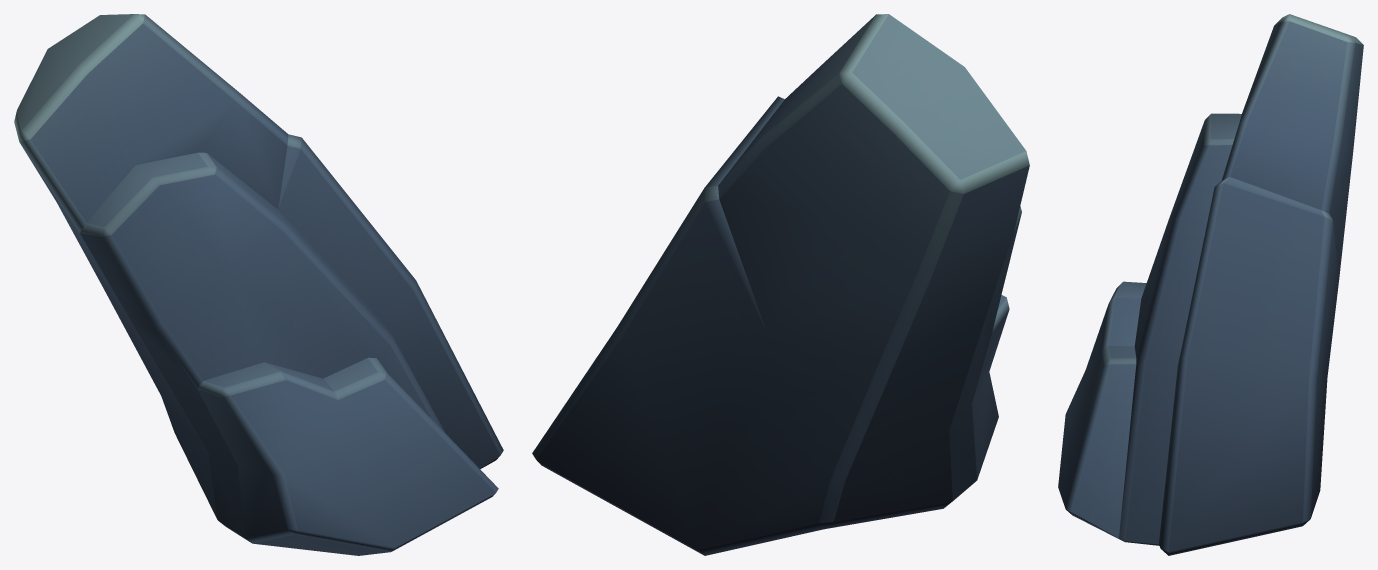
File: rock_021.fbx
3 views of the same model, side by side, from view 1: azimuth 30°, elevation 25°; view 2: azimuth 150°, elevation 25°; view 3: azimuth 270°, elevation 25° (orthographic). The views are drawn at different scales.
Parts seen in each view (by area): view 1: rock_021; view 2: rock_021; view 3: rock_021.
Part boxes in pixels (bbox=[...]): rock_021: bbox=[14, 14, 503, 555]; rock_021: bbox=[532, 14, 1029, 555]; rock_021: bbox=[1058, 14, 1363, 555].
Size of the model in its own units: 426 by 493 by 305.
Materials: 1 (1 with a texture image).
